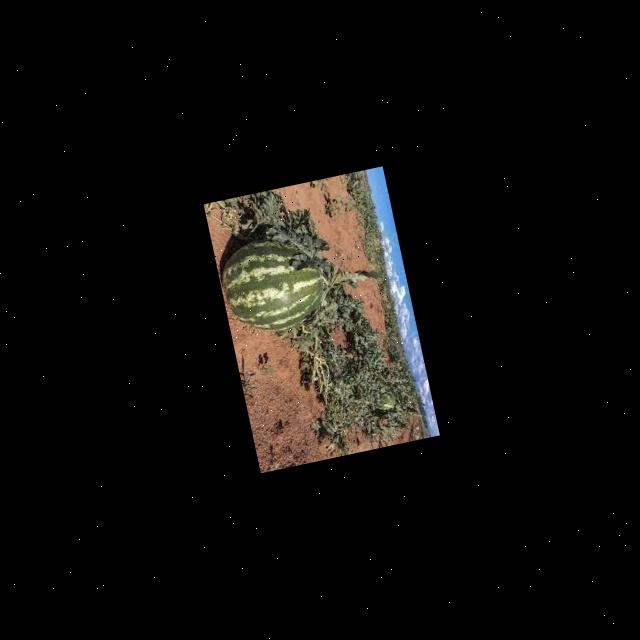watermelon: (212, 227, 332, 341), (369, 390, 396, 414)
